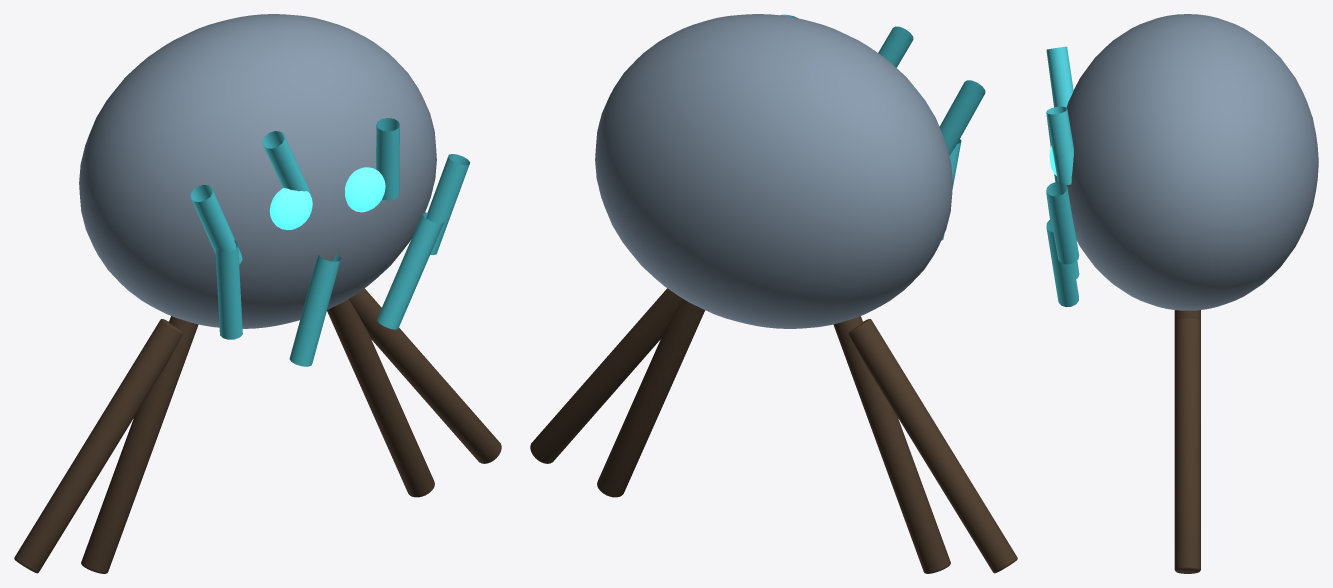
Rendered from aberration_v4.glb.
3 views of the same model, side by side, from view 1: azimuth 30°, elevation 25°; view 2: azimuth 150°, elevation 25°; view 3: azimuth 270°, elevation 25° (orthographic). The views are drawn at different scales.
Visible parts, largest first — view 1: BRAIN_PRIMARY, BRAIN_LEG_SECONDARY.001, BRAIN_LEG_SECONDARY, BRAIN_LEG_SECONDARY.002, BRAIN_LEG_SECONDARY.003, BRAIN_FOLD_ACCENT.006, BRAIN_FOLD_ACCENT.005, BRAIN_FOLD_ACCENT.004, BRAIN_FOLD_ACCENT, BRAIN_FOLD_ACCENT.003, BRAIN_FOLD_ACCENT.001, BRAIN_FOLD_ACCENT.002 (+2 smaller); view 2: BRAIN_PRIMARY, BRAIN_LEG_SECONDARY.001, BRAIN_LEG_SECONDARY, BRAIN_LEG_SECONDARY.002, BRAIN_LEG_SECONDARY.003, BRAIN_FOLD_ACCENT.003, BRAIN_FOLD_ACCENT.002; view 3: BRAIN_PRIMARY, BRAIN_LEG_SECONDARY.003, BRAIN_FOLD_ACCENT, BRAIN_FOLD_ACCENT.001, BRAIN_FOLD_ACCENT.006, BRAIN_FOLD_ACCENT.002.
Part boxes in pixels (x1,y1,x2,y2): BRAIN_PRIMARY: [79, 14, 436, 328]; BRAIN_LEG_SECONDARY.001: [14, 319, 183, 573]; BRAIN_LEG_SECONDARY: [81, 316, 198, 573]; BRAIN_LEG_SECONDARY.002: [327, 299, 434, 497]; BRAIN_LEG_SECONDARY.003: [349, 288, 501, 463]; BRAIN_FOLD_ACCENT.006: [377, 212, 443, 329]; BRAIN_FOLD_ACCENT.005: [289, 254, 340, 366]; BRAIN_FOLD_ACCENT.004: [215, 240, 242, 339]; BRAIN_FOLD_ACCENT: [426, 154, 470, 254]; BRAIN_FOLD_ACCENT.003: [190, 185, 242, 264]; BRAIN_FOLD_ACCENT.001: [376, 118, 399, 200]; BRAIN_FOLD_ACCENT.002: [262, 131, 311, 196]; BRAIN_PRIMARY: [595, 14, 952, 328]; BRAIN_LEG_SECONDARY.001: [848, 319, 1017, 573]; BRAIN_LEG_SECONDARY: [833, 316, 950, 573]; BRAIN_LEG_SECONDARY.002: [597, 299, 705, 497]; BRAIN_LEG_SECONDARY.003: [530, 288, 682, 463]; BRAIN_FOLD_ACCENT.003: [939, 80, 985, 155]; BRAIN_FOLD_ACCENT.002: [878, 26, 913, 67]; BRAIN_PRIMARY: [1066, 14, 1318, 310]; BRAIN_LEG_SECONDARY.003: [1174, 318, 1200, 573]; BRAIN_FOLD_ACCENT: [1046, 182, 1079, 264]; BRAIN_FOLD_ACCENT.001: [1046, 106, 1073, 184]; BRAIN_FOLD_ACCENT.006: [1046, 219, 1078, 306]; BRAIN_FOLD_ACCENT.002: [1046, 46, 1073, 107].
Bounding box in the file's own units: 2.12 × 2.12 × 1.14.
